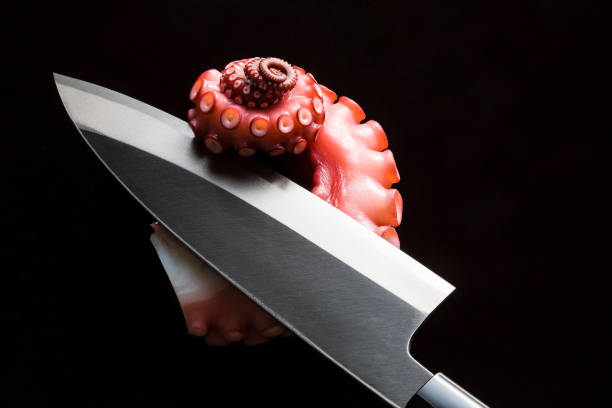knife: (51, 70, 493, 408)
